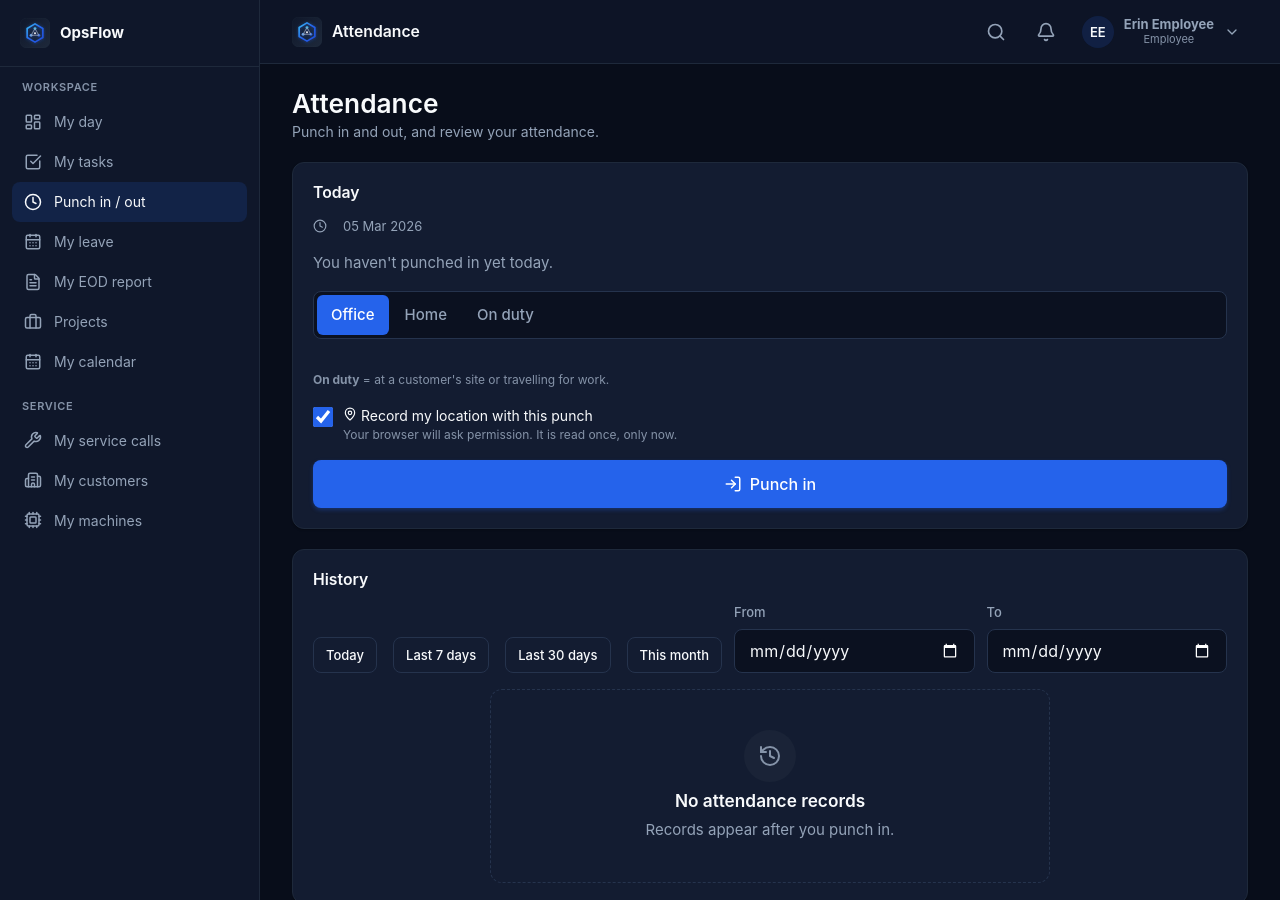
Scenario: Attendance › punches in with the location read once at that moment, then shows the working state
Check: the text "You haven't punched in yet today." is shown, box x1=313 y1=253 x2=553 y2=272
Step 1. Click the button "Punch in" → (770, 484), box x1=313 y1=460 x2=1227 y2=508
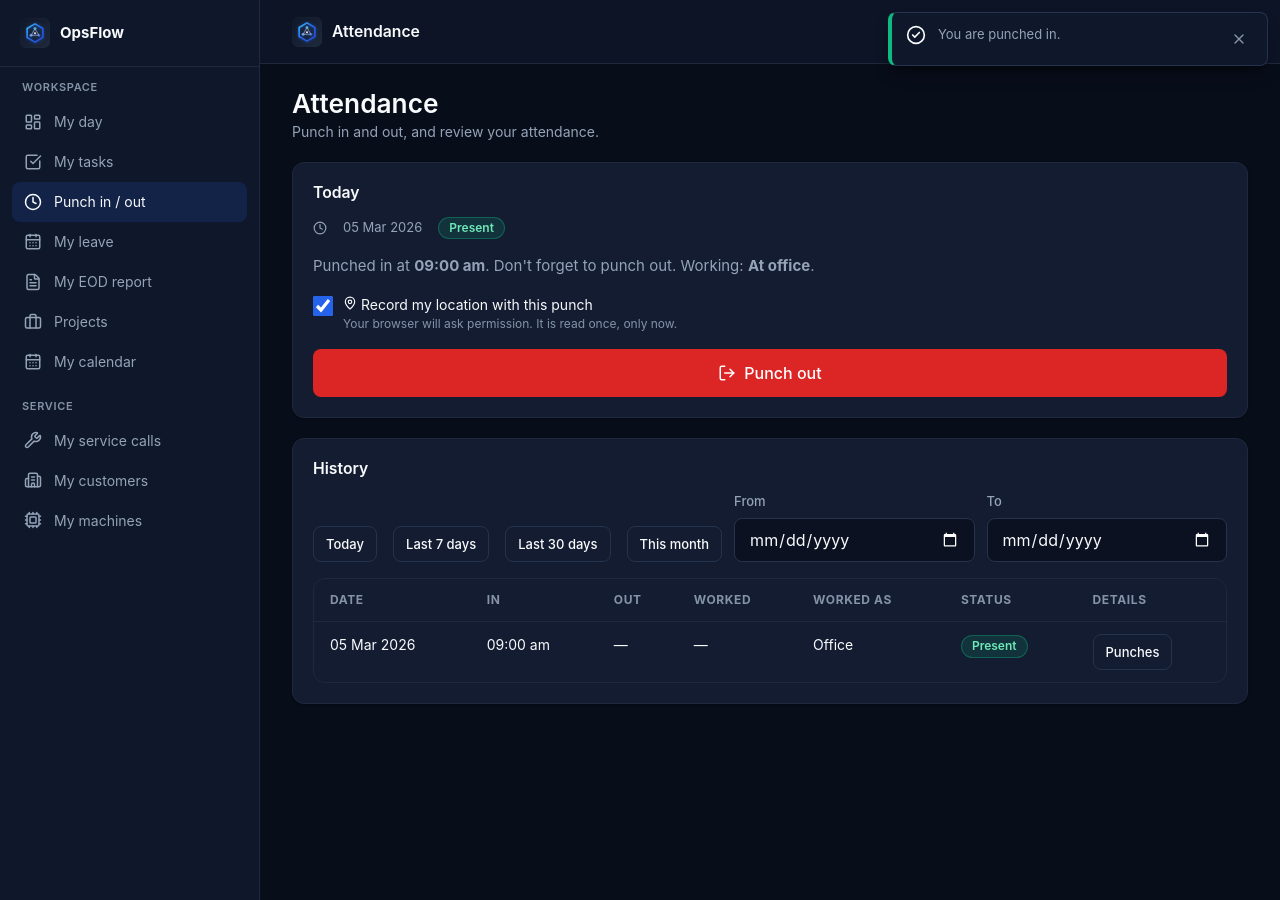
Check: the text "Punched in at" is shown, box x1=313 y1=256 x2=414 y2=275
Check: the button "Punch out" is shown, box x1=313 y1=349 x2=1227 y2=397
